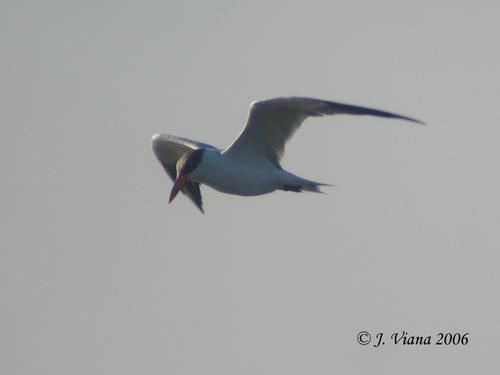bird: (150, 92, 430, 217)
